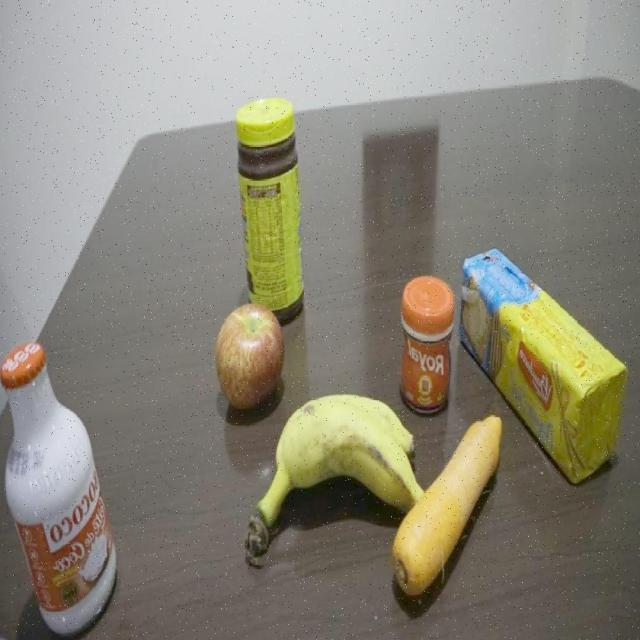Apple: (216, 308, 286, 398)
Banana: (253, 397, 414, 532)
Carrot: (417, 410, 509, 611)
ChocolatePowder: (238, 96, 305, 304)
CoconutMilk: (0, 328, 119, 630)
Cracker: (461, 246, 625, 406)
Yeast: (398, 274, 454, 411)
